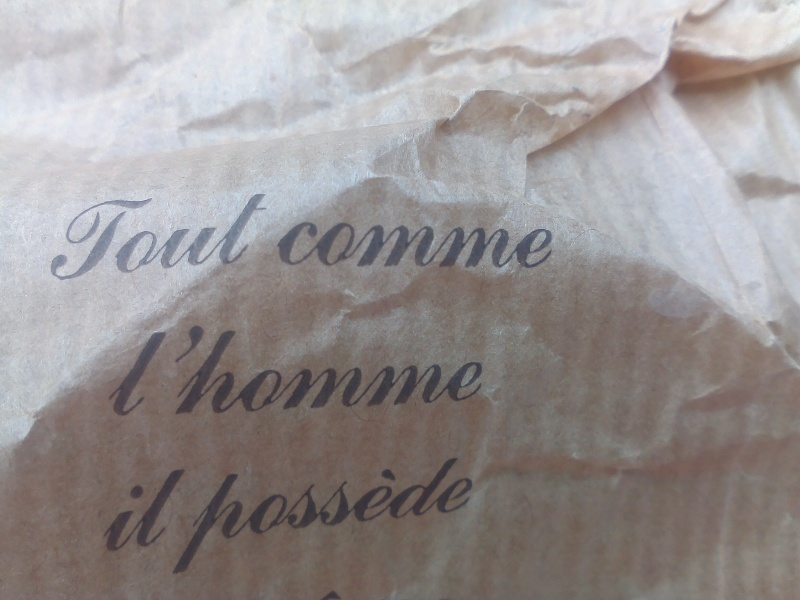text: (225, 455, 240, 577), (241, 455, 256, 577), (257, 455, 272, 577), (273, 455, 288, 577), (289, 455, 304, 577), (305, 455, 320, 577), (321, 455, 336, 577), (337, 455, 352, 577), (353, 455, 368, 577), (369, 455, 384, 577), (385, 455, 400, 577), (401, 455, 416, 577), (417, 455, 432, 577), (433, 455, 448, 577), (449, 455, 464, 577), (113, 320, 128, 418), (129, 320, 144, 418), (145, 320, 160, 418), (161, 320, 176, 418), (177, 320, 192, 418), (193, 320, 208, 418), (209, 320, 224, 418), (225, 320, 240, 418), (241, 320, 256, 418), (257, 320, 272, 418), (273, 320, 288, 418), (289, 320, 304, 418), (305, 320, 320, 418), (321, 320, 336, 418), (337, 320, 352, 418), (353, 320, 368, 418), (369, 320, 384, 418), (385, 320, 400, 418), (401, 320, 416, 418), (417, 320, 432, 418), (433, 320, 448, 418), (449, 320, 464, 418), (465, 320, 480, 418), (257, 193, 273, 283), (81, 193, 96, 283), (97, 193, 112, 283), (113, 193, 128, 283), (129, 193, 144, 283), (145, 193, 160, 283), (161, 193, 176, 283), (177, 193, 192, 283), (193, 193, 208, 283), (209, 193, 224, 283), (225, 193, 240, 283), (241, 193, 256, 283), (129, 467, 144, 556), (145, 467, 160, 556), (161, 467, 176, 556), (177, 467, 192, 556), (465, 455, 474, 577), (70, 193, 80, 283), (289, 216, 304, 271), (305, 216, 320, 271), (321, 216, 336, 271), (337, 216, 352, 271), (353, 216, 368, 271), (369, 216, 384, 271), (385, 216, 400, 271), (401, 216, 416, 271), (417, 216, 432, 271), (433, 216, 448, 271), (449, 216, 464, 271), (465, 216, 480, 271), (481, 216, 496, 271), (497, 216, 512, 271), (513, 216, 528, 271), (529, 216, 544, 271), (119, 467, 128, 556), (481, 320, 488, 418), (279, 216, 288, 271), (545, 216, 554, 271), (107, 320, 112, 418), (223, 455, 224, 577), (193, 467, 194, 556)
